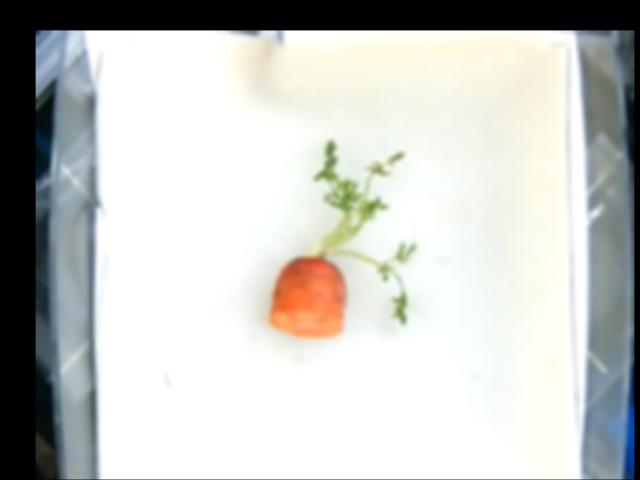Carrot: (270, 140, 413, 337)
